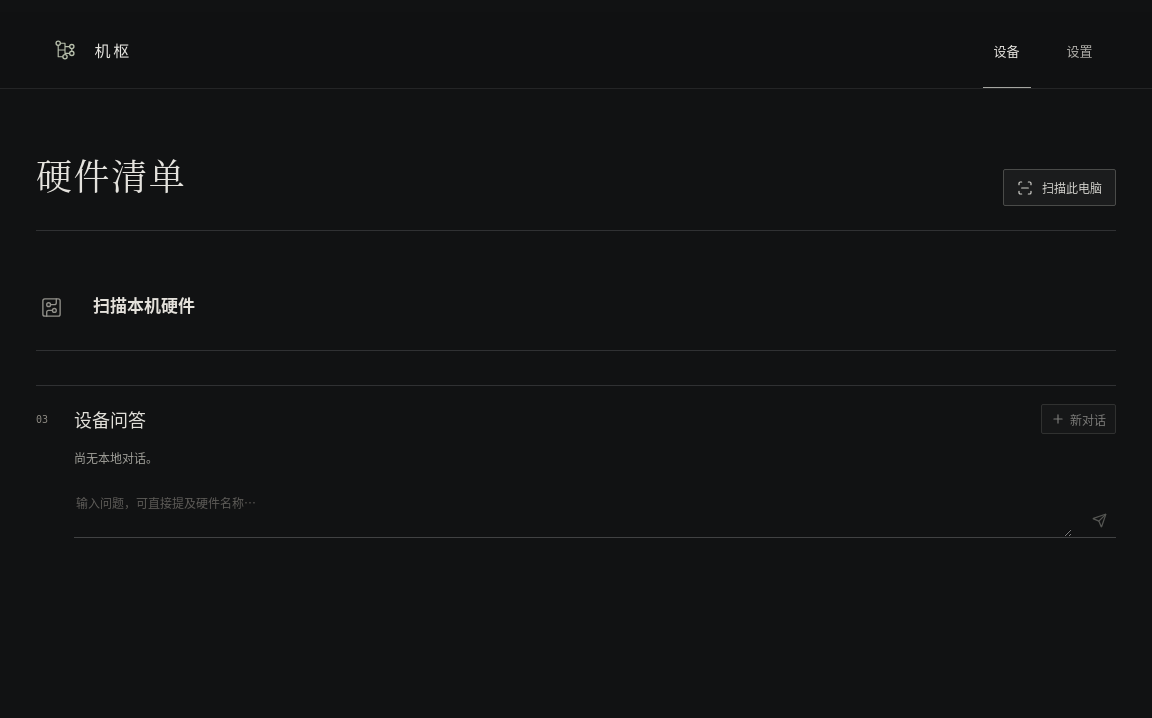
Test: CoreScope application shell › shows a concise notice when realtime telemetry is temporarily unavailable
The width and height of the screenshot is (1152, 718).
Click the button "扫描此电脑". click: (1060, 188)
box: [1003, 169, 1116, 206]
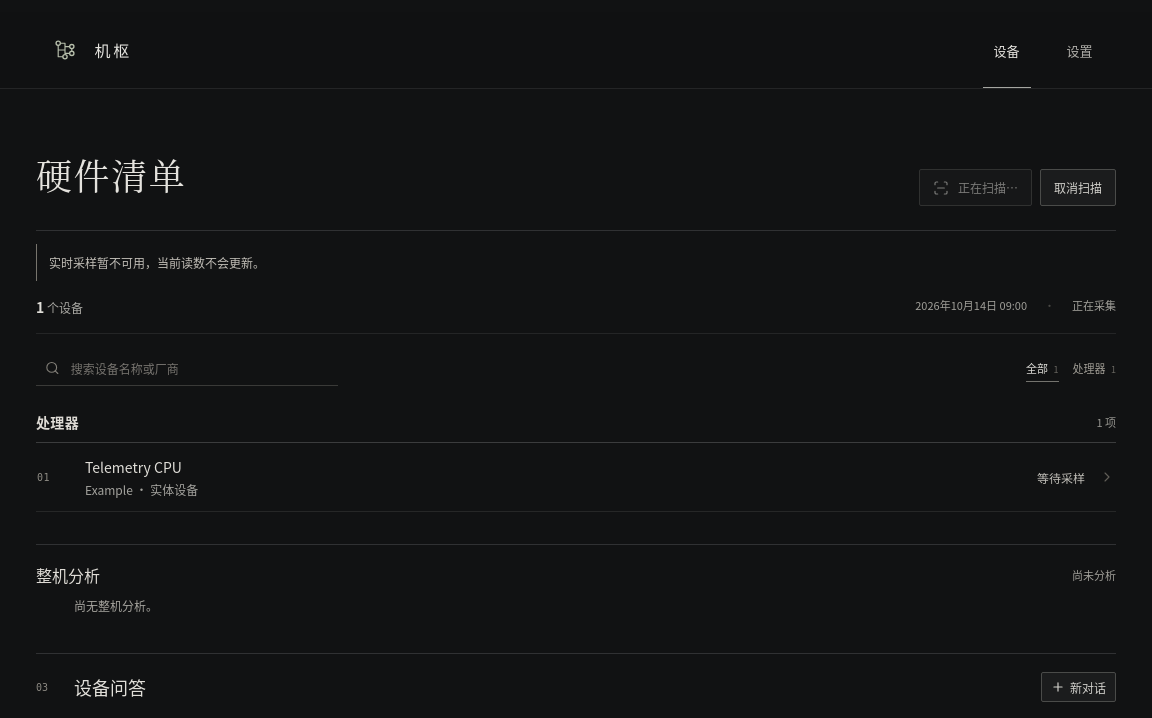
Expected: the text "实时采样暂不可用，当前读数不会更新。" is shown, [36, 244, 1116, 281]
